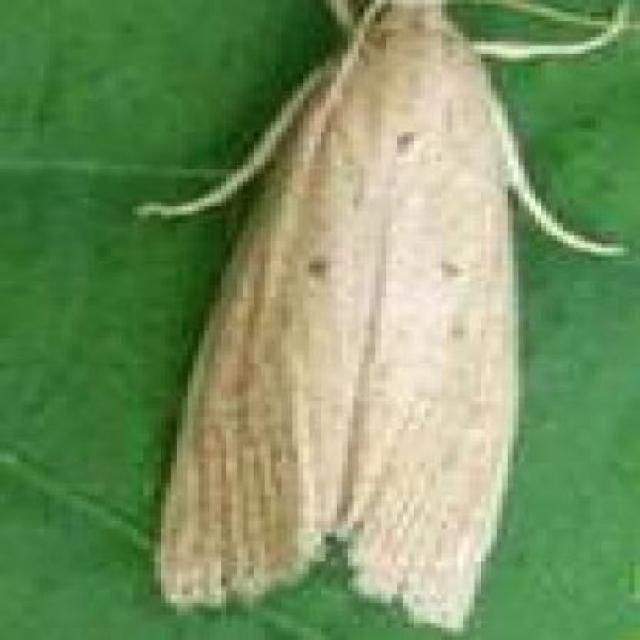stem-borer: (150, 0, 542, 640)
